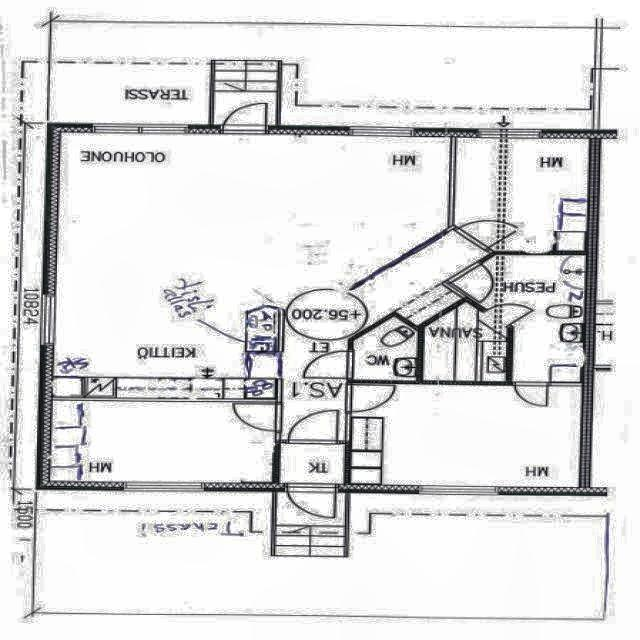room: (350, 383, 581, 488), (50, 400, 275, 482), (451, 255, 585, 383), (455, 138, 589, 252), (424, 302, 507, 382), (353, 316, 418, 381), (279, 442, 345, 484)
